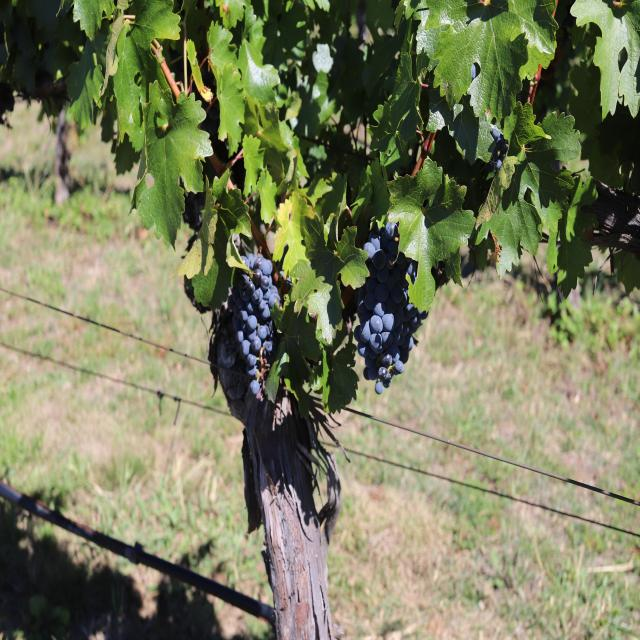grapes: (354, 222, 427, 394), (228, 253, 280, 399)
